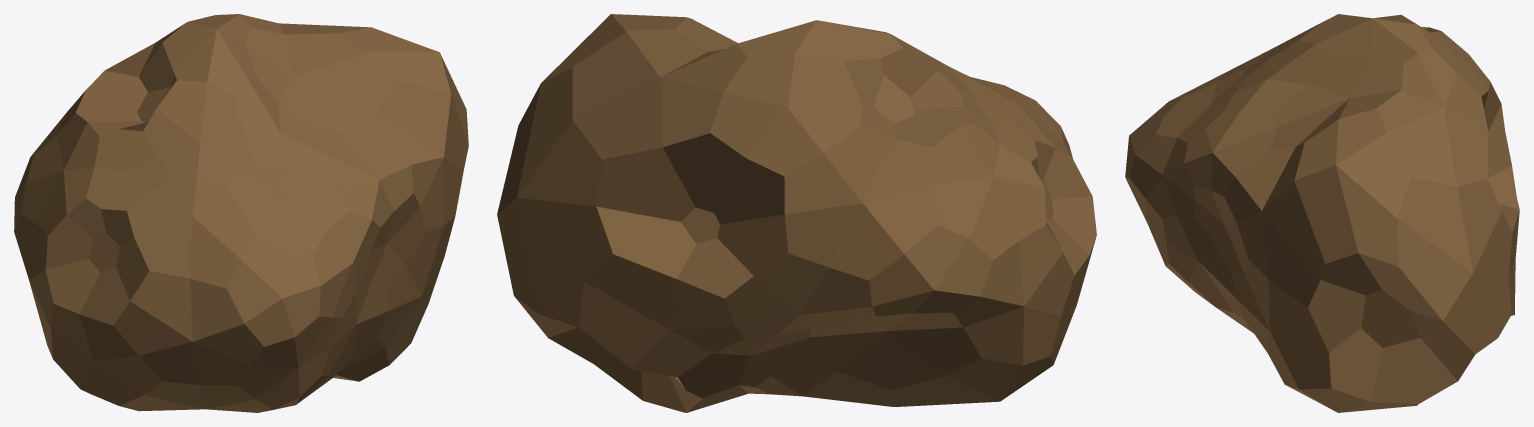
File: Asteroide_4.fbx
3 views of the same model, side by side, from view 1: azimuth 30°, elevation 25°; view 2: azimuth 150°, elevation 25°; view 3: azimuth 270°, elevation 25° (orthographic). The views are drawn at different scales.
Parts seen in each view (by area): view 1: ASteroide_5; view 2: ASteroide_5; view 3: ASteroide_5.
Boxes of the visible parts, x1,y1,x2,y2 form: ASteroide_5: (14, 14, 468, 412); ASteroide_5: (497, 14, 1096, 412); ASteroide_5: (1125, 14, 1519, 412).
Size of the model in its own units: 1096 by 837 by 900.
